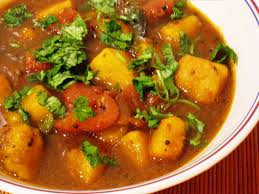curry: (1, 1, 239, 188)
